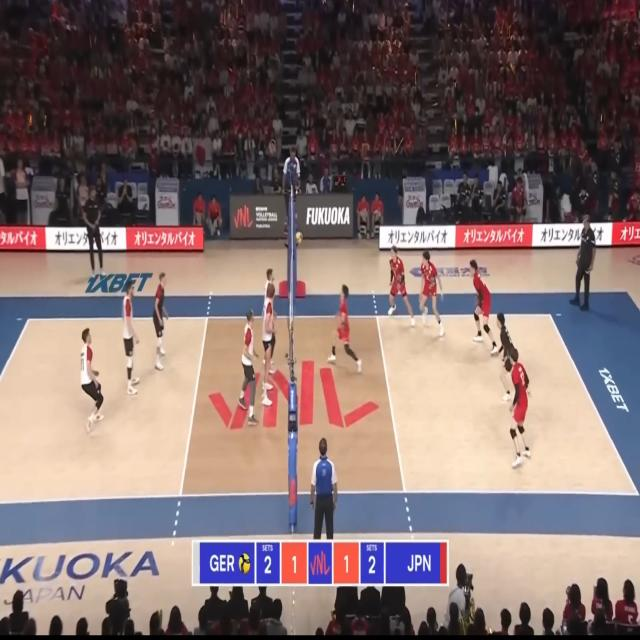ball: (295, 230, 303, 244)
